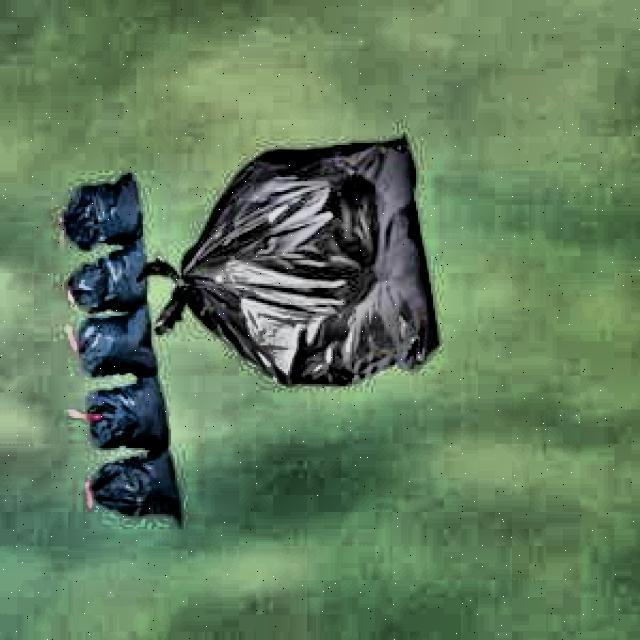Trashbag: (190, 127, 444, 395), (60, 159, 149, 251), (72, 300, 169, 382), (90, 448, 189, 528), (84, 373, 172, 455), (68, 237, 158, 315)
